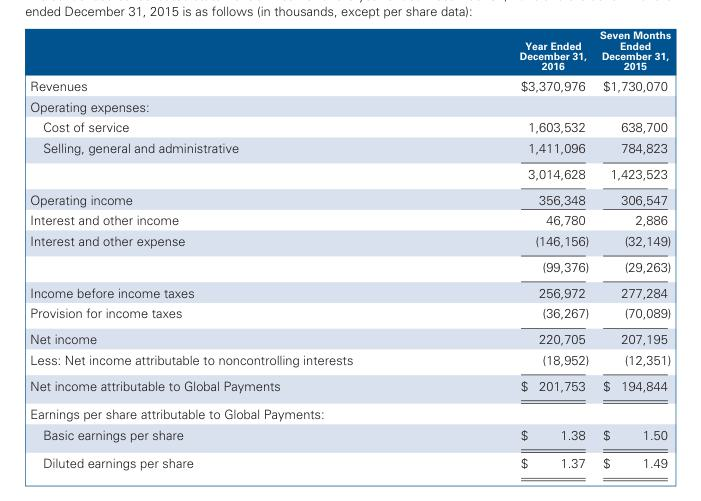table: (29, 28, 670, 470)
table column: (29, 28, 435, 470), (435, 28, 593, 470), (593, 28, 670, 470)
table column header: (29, 28, 670, 74)
table projected row header: (29, 399, 670, 423), (29, 95, 670, 116)
table row: (29, 28, 670, 74), (29, 372, 670, 399), (29, 160, 670, 186), (29, 253, 670, 279), (29, 423, 670, 448), (29, 348, 670, 372), (29, 399, 670, 423), (29, 137, 670, 160), (29, 186, 670, 209), (29, 230, 670, 253), (29, 279, 670, 302), (29, 302, 670, 325), (29, 325, 670, 348), (29, 448, 670, 470), (29, 74, 670, 95), (29, 95, 670, 116), (29, 116, 670, 137), (29, 209, 670, 230)
